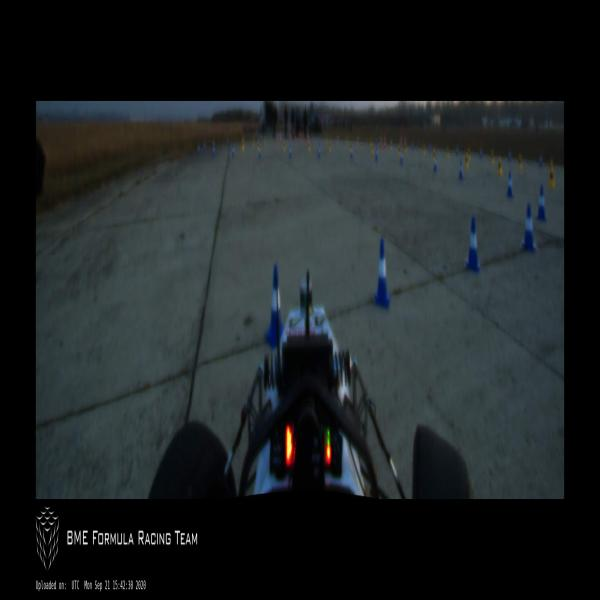blue_cone: (266, 265, 284, 347), (374, 239, 390, 306), (464, 217, 479, 270), (522, 204, 536, 250), (537, 185, 547, 222), (506, 170, 514, 199), (459, 160, 464, 180), (433, 156, 438, 173), (212, 142, 215, 158), (479, 147, 483, 159), (318, 143, 321, 158), (289, 143, 292, 158), (401, 151, 404, 164), (197, 144, 200, 157), (508, 149, 511, 162), (375, 148, 378, 160), (350, 147, 353, 159), (429, 144, 432, 155), (540, 154, 542, 168), (232, 144, 234, 157), (259, 147, 261, 158), (412, 141, 414, 150), (226, 138, 228, 146), (204, 141, 205, 153)
orange_cone: (380, 136, 383, 150), (384, 135, 386, 148)
yellow_cone: (549, 162, 555, 190), (497, 158, 503, 178), (464, 151, 469, 169), (518, 154, 522, 172), (241, 138, 245, 152), (491, 149, 494, 165), (446, 144, 449, 158), (371, 142, 374, 155), (263, 136, 266, 149), (433, 148, 436, 161), (468, 147, 471, 160), (404, 142, 407, 153), (398, 145, 401, 156), (456, 146, 459, 156), (423, 143, 425, 156), (329, 141, 331, 153), (283, 141, 285, 153), (355, 136, 358, 144), (308, 142, 310, 153), (390, 140, 392, 151), (349, 143, 351, 153), (253, 137, 255, 146), (370, 137, 372, 144), (258, 141, 259, 150)
